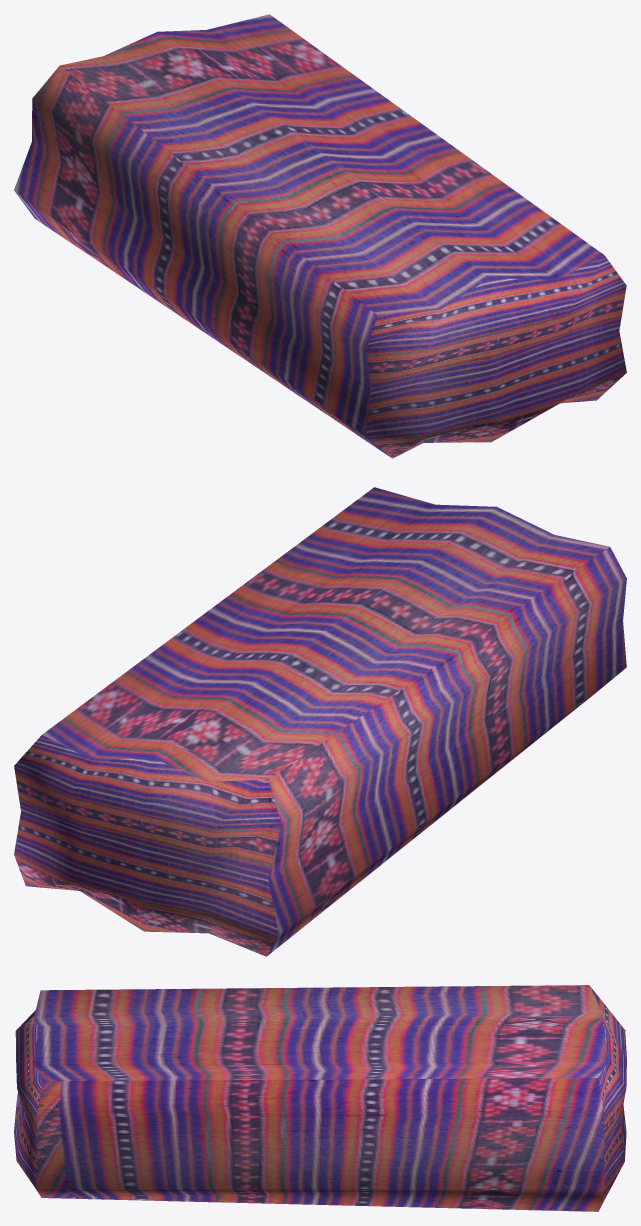
3 views of the same model, one above another, from view 1: azimuth 30°, elevation 25°; view 2: azimuth 150°, elevation 25°; view 3: azimuth 270°, elevation 25° (orthographic). The views are drawn at different scales.
Visible parts, largest first — view 1: Cube; view 2: Cube; view 3: Cube.
Boxes of the visible parts, <box> form: Cube: <box>14,14,626,458</box>; Cube: <box>14,487,626,956</box>; Cube: <box>14,985,626,1211</box>.
Size of the model in its own units: 1.42 by 0.8292 by 3.34.
1 material, 1 textured.
